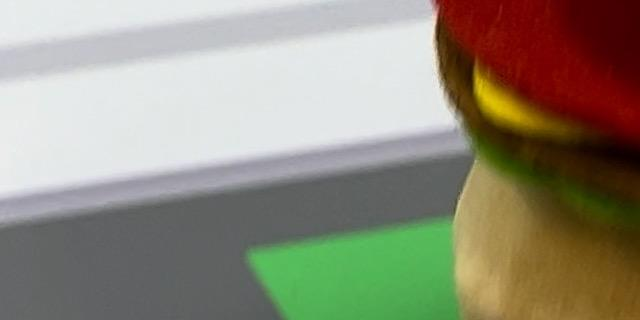burger: (398, 0, 640, 320)
